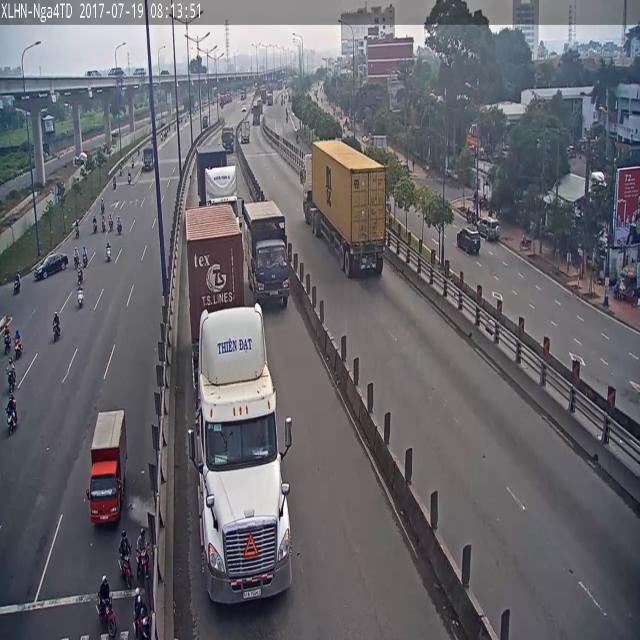car: (96, 575, 116, 636), (118, 531, 132, 587), (134, 595, 150, 639), (136, 530, 149, 581), (6, 393, 18, 433), (6, 359, 16, 393), (14, 331, 22, 360), (52, 312, 60, 341), (4, 327, 12, 354), (14, 271, 21, 294), (77, 286, 84, 308), (74, 248, 80, 270), (82, 247, 88, 268), (117, 215, 122, 234), (92, 215, 97, 233), (106, 243, 111, 261), (108, 214, 113, 231), (102, 213, 106, 233), (74, 220, 78, 236), (101, 198, 104, 214)
traffic-light: (34, 253, 68, 280), (456, 228, 480, 254), (478, 216, 500, 241)
truck: (185, 203, 296, 604), (302, 139, 386, 283), (240, 201, 288, 306), (88, 411, 127, 524), (195, 140, 241, 210), (144, 142, 154, 171), (222, 126, 233, 152), (240, 120, 250, 143)
